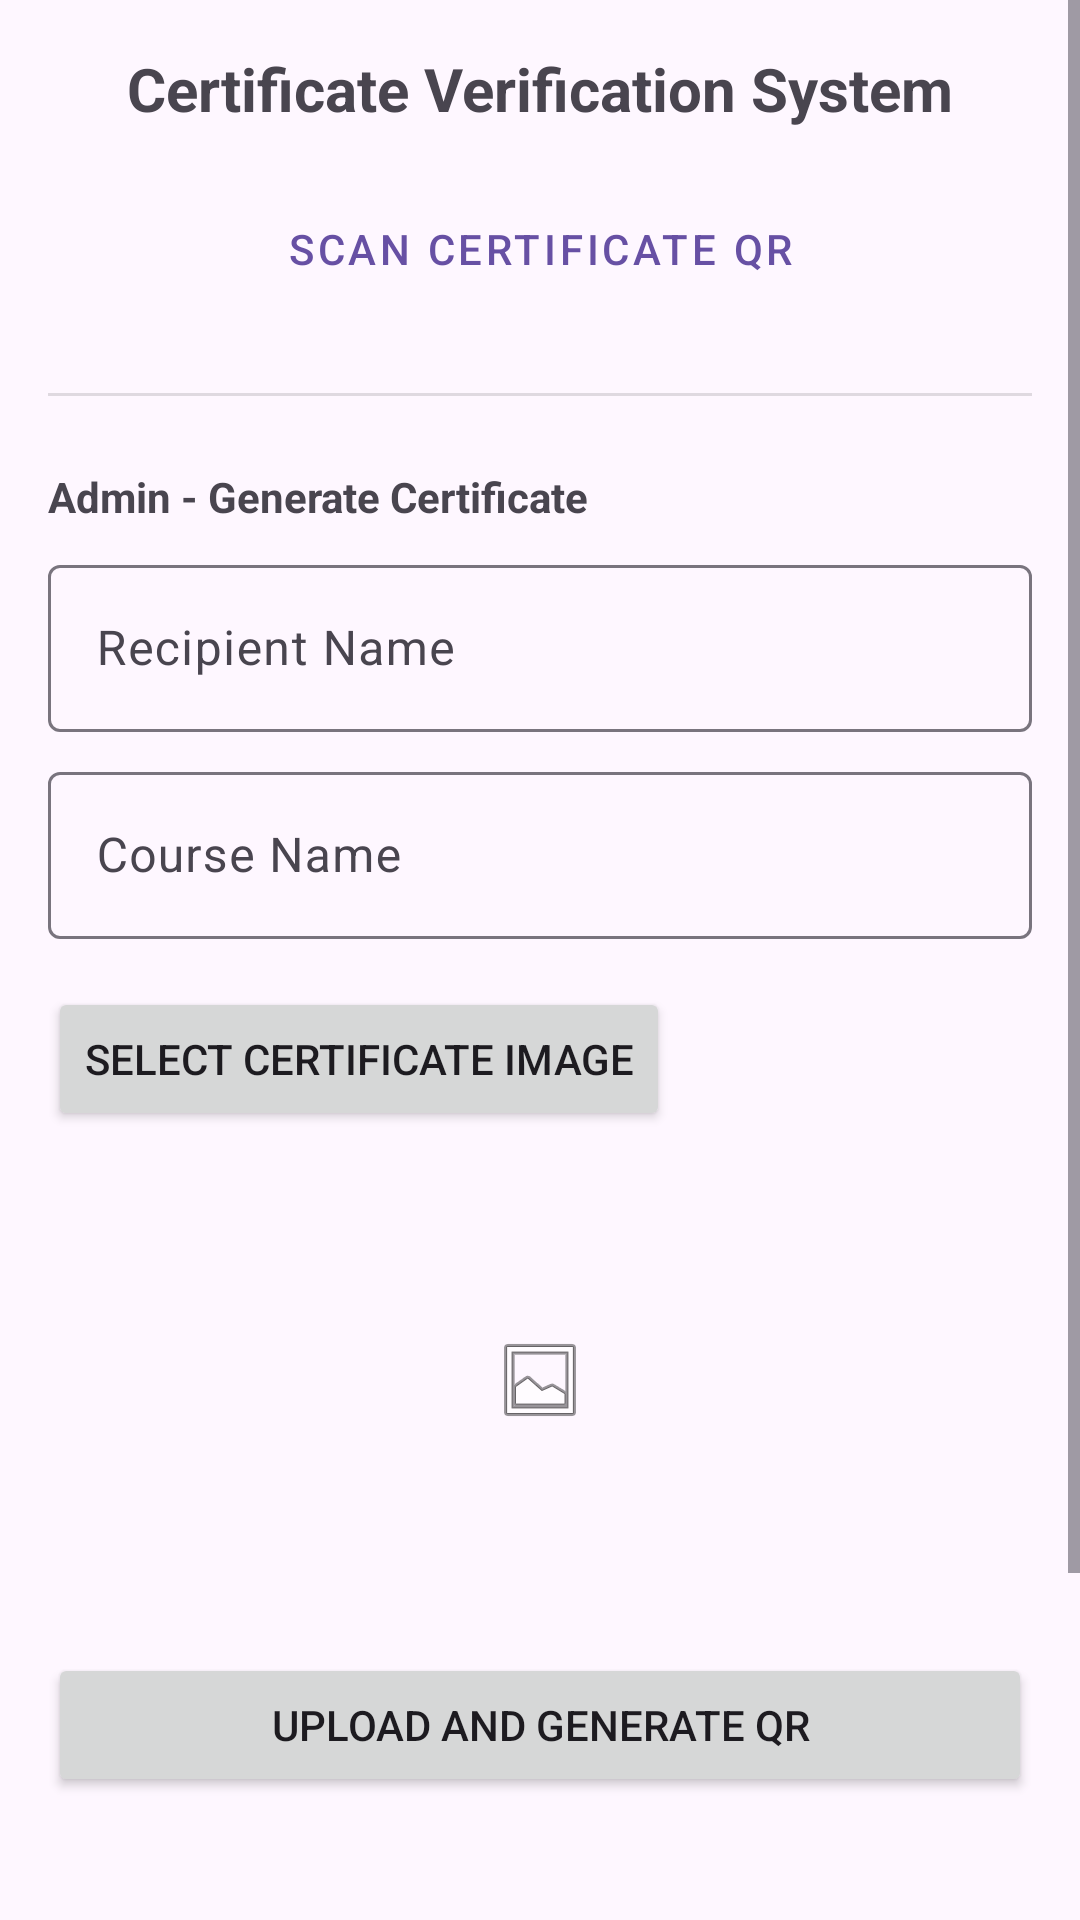

Icon bounding boxes for this 1080*1920 phone screenshot, format (left=x1, top=y1, right=x2, bottom=y2):
gallery: (left=504, top=1344, right=576, bottom=1416)
